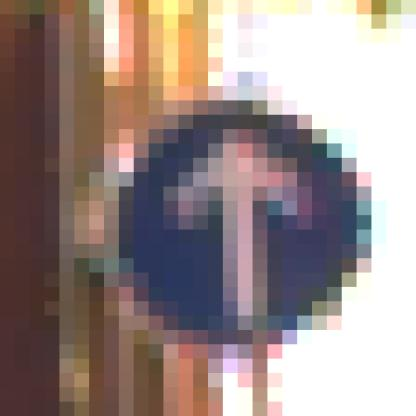AheadOnly: (90, 73, 343, 345)
